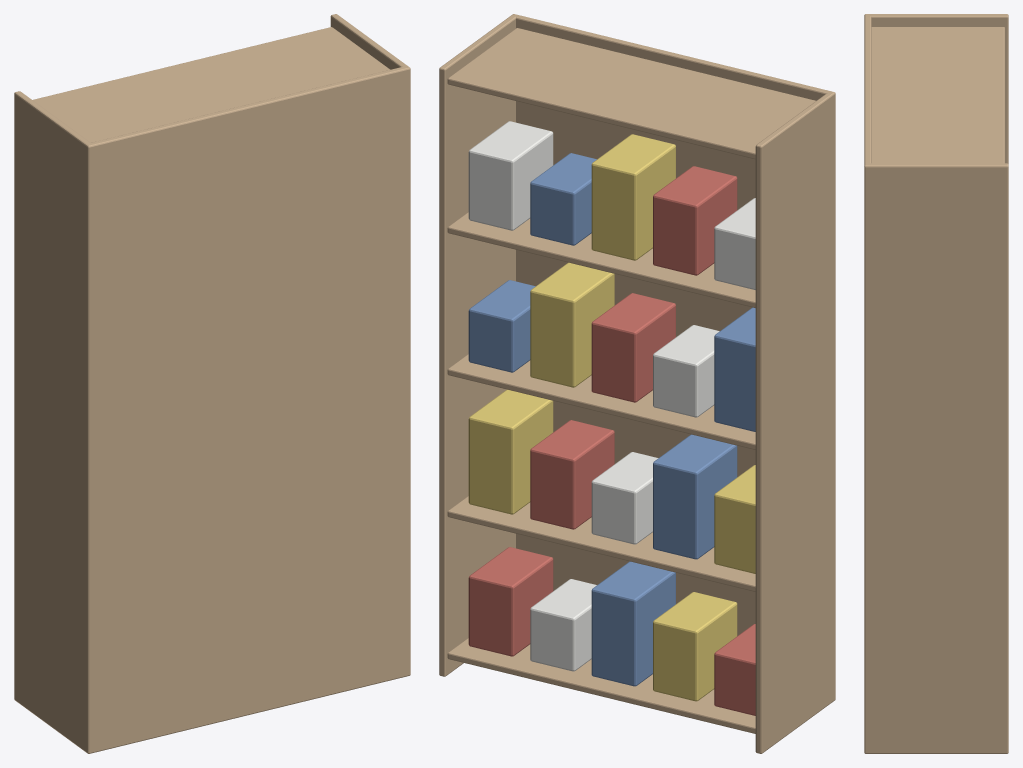
File: goods_rack.glb
The picture shows the model from 3 angles, left to right: view 1: azimuth 30°, elevation 25°; view 2: azimuth 150°, elevation 25°; view 3: azimuth 270°, elevation 25°; orthographic projection. The views are drawn at different scales.
Visible parts, largest first — view 1: goods_rack; view 2: goods_rack; view 3: goods_rack.
Part boxes in pixels (x1,y1,x2,y2): goods_rack: (14, 14, 410, 753); goods_rack: (439, 14, 835, 753); goods_rack: (864, 14, 1008, 753).
Size of the model in its own units: 1 by 1.8 by 0.4.
